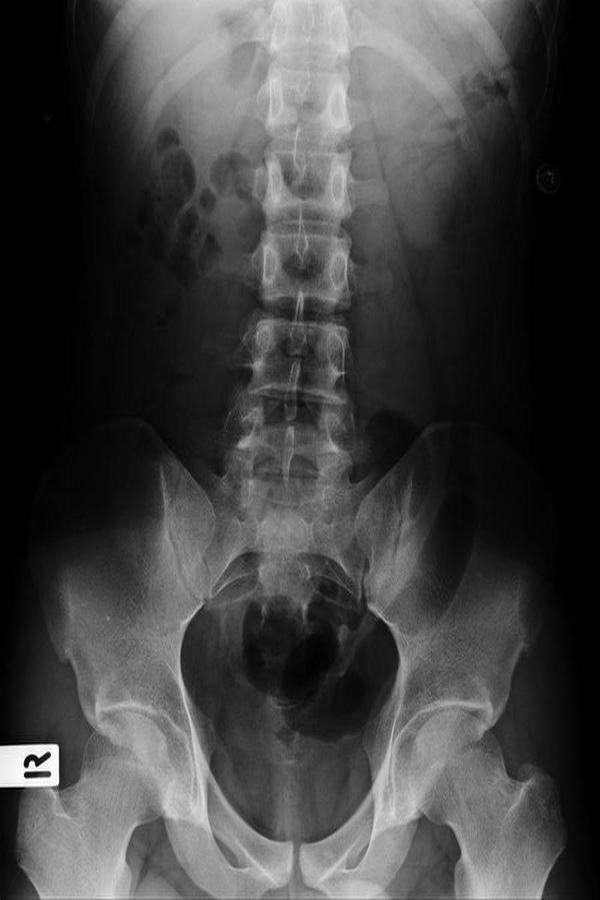lumbar scoliosis: (231, 7, 359, 545)
